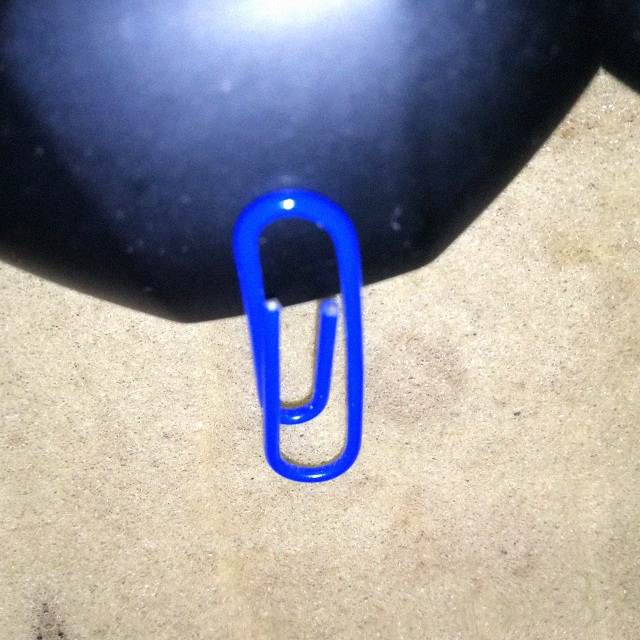pin: (223, 185, 395, 498)
